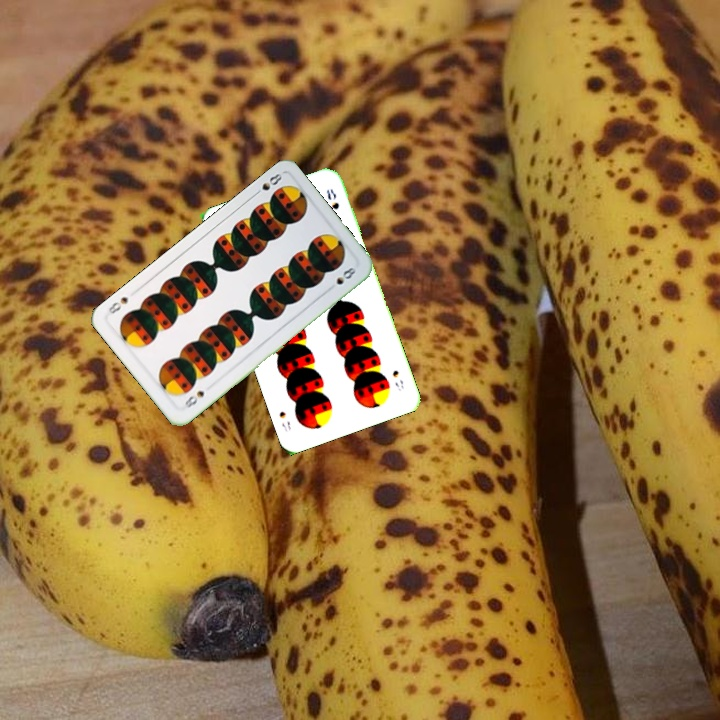S8: (249, 169, 285, 199), (180, 387, 207, 413), (388, 366, 406, 394)
